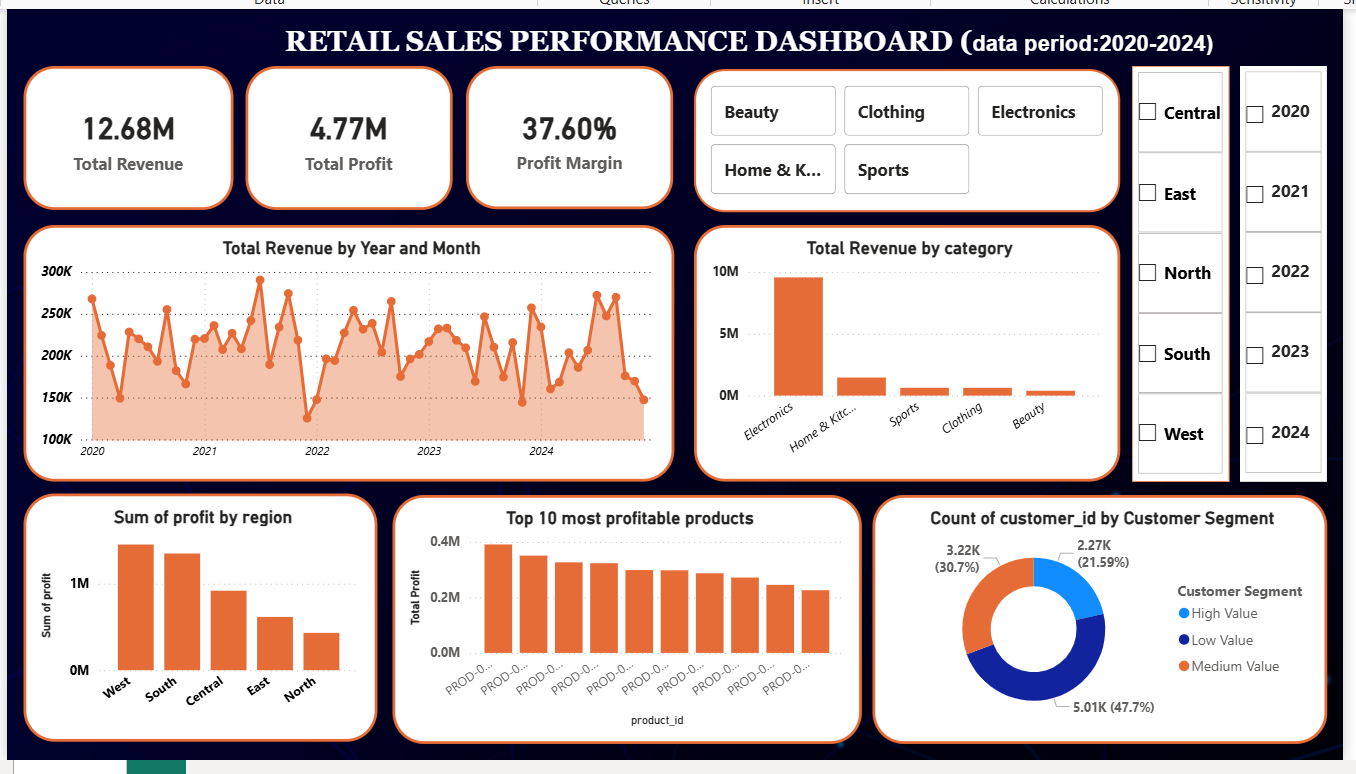

The dashboard page shown, as its layout file describes it:
{"tool":"powerbi","page":{"name":"Page 1","canvas":[1280,720],"ordinal":0},"visuals":[{"type":"card","fields":{"Values":["project1_sales_data.Total Profit"]},"box":[228.7,54.6,198.5,138.1],"z":0},{"type":"lineChart","fields":{"Category":["project1_sales_data.order_date.Variation.Date Hierarchy.Year","project1_sales_data.order_date.Variation.Date Hierarchy.Month"],"Y":["project1_sales_data.Total Revenue"]},"box":[15.8,207.1,624.1,245.9],"z":1000},{"type":"clusteredColumnChart","fields":{"Category":["project1_sales_data.category"],"Y":["project1_sales_data.Total Revenue"]},"box":[658.7,207.1,408.4,245.9],"z":2000},{"type":"clusteredColumnChart","fields":{"Y":["Sum(project1_sales_data.profit)"],"Category":["project1_sales_data.region"]},"box":[15.1,464.9,339.2,237.7],"z":3000},{"type":"clusteredColumnChart","title":"Top 10 most profitable products","fields":{"Y":["project1_sales_data.Total Profit"],"Category":["project1_sales_data.product_id"]},"box":[369.6,465.9,450.1,238.7],"z":4000},{"type":"card","fields":{"Values":["project1_sales_data.Total Revenue"]},"box":[15.8,54.6,201.3,138.1],"z":5000},{"type":"listSlicer","fields":{"Values":["project1_sales_data.region"]},"box":[1078.6,54.6,93.5,398.4],"z":7000},{"type":"advancedSlicerVisual","fields":{"Values":["project1_sales_data.category"]},"box":[658.4,56.8,409,137.4],"z":8000},{"type":"listSlicer","fields":{"Values":["project1_sales_data.order_date.Variation.Date Hierarchy.Year"]},"box":[1182.1,54.6,83.4,398.4],"z":9000},{"type":"donutChart","fields":{"Series":["project1_sales_data.Customer Segment"],"Y":["CountNonNull(project1_sales_data.customer_id)"]},"box":[829.8,465.9,435.7,238.7],"z":10000},{"type":"textbox","box":[15.1,10.6,1249.2,43.9],"z":11000},{"type":"card","fields":{"Values":["project1_sales_data.Profit Margin"]},"box":[440.5,55.3,198.9,137.4],"z":12000}]}

Visuals, with their boxes in screenshot pixels (x1, y1, x2, y2):
card - project1_sales_data.Total Profit: {"x1": 242, "y1": 61, "x2": 450, "y2": 205}
lineChart - project1_sales_data.order_date.Variation.Date Hierarchy.Year x project1_sales_data.order_date.Variation.Date Hierarchy.Month: {"x1": 20, "y1": 220, "x2": 672, "y2": 477}
clusteredColumnChart - project1_sales_data.category x project1_sales_data.Total Revenue: {"x1": 692, "y1": 220, "x2": 1118, "y2": 477}
clusteredColumnChart - Sum(project1_sales_data.profit) x project1_sales_data.region: {"x1": 19, "y1": 489, "x2": 374, "y2": 738}
"Top 10 most profitable products" clusteredColumnChart: {"x1": 390, "y1": 490, "x2": 860, "y2": 740}
card - project1_sales_data.Total Revenue: {"x1": 20, "y1": 61, "x2": 230, "y2": 205}
listSlicer - project1_sales_data.region: {"x1": 1130, "y1": 61, "x2": 1228, "y2": 477}
advancedSlicerVisual - project1_sales_data.category: {"x1": 691, "y1": 63, "x2": 1119, "y2": 206}
listSlicer - project1_sales_data.order_date.Variation.Date Hierarchy.Year: {"x1": 1239, "y1": 61, "x2": 1326, "y2": 477}
donutChart - project1_sales_data.Customer Segment x CountNonNull(project1_sales_data.customer_id): {"x1": 870, "y1": 490, "x2": 1326, "y2": 740}
textbox: {"x1": 19, "y1": 15, "x2": 1324, "y2": 60}
card - project1_sales_data.Profit Margin: {"x1": 464, "y1": 61, "x2": 672, "y2": 205}
